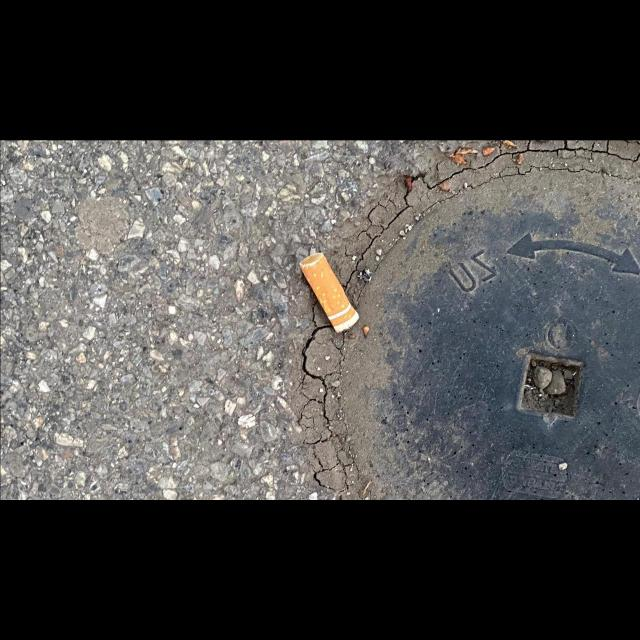cigarette: (298, 252, 360, 334)
